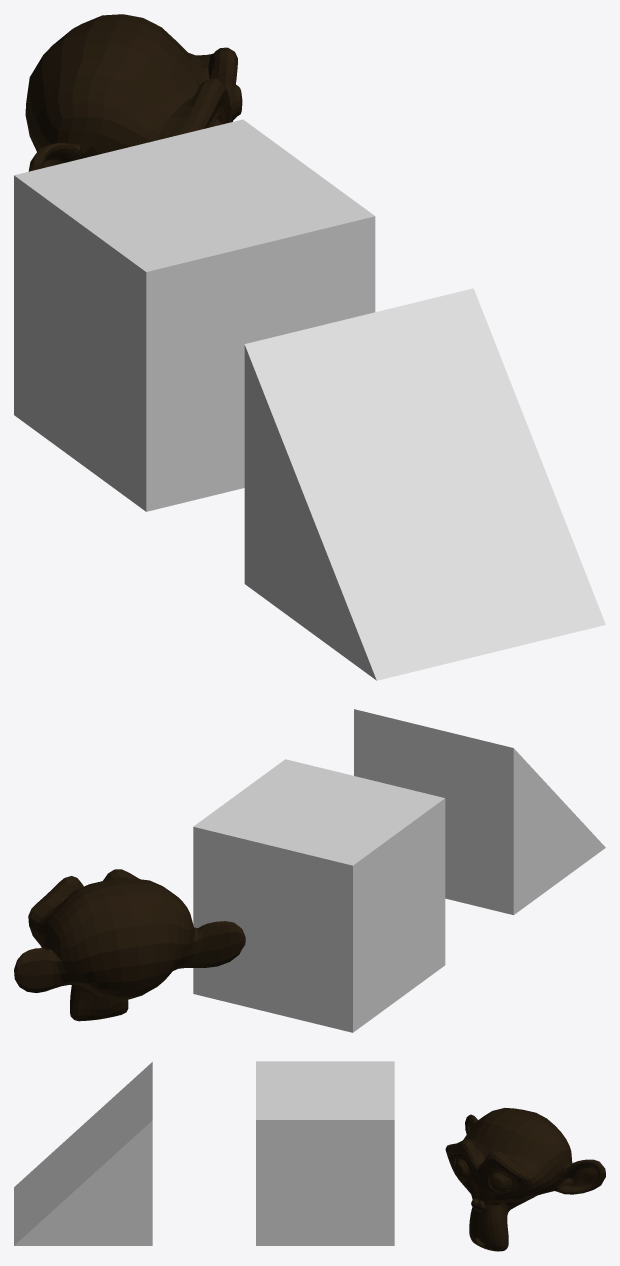
Rendered from test_map.gltf.
3 renders of one model, top to bottom at view 1: azimuth 30°, elevation 25°; view 2: azimuth 150°, elevation 25°; view 3: azimuth 270°, elevation 25°, orthographic. The views are drawn at different scales.
Visible parts, largest first — view 1: Ramp-col, Cube-col, Monkey; view 2: Cube-col, Ramp-col, Monkey; view 3: Cube-col, Ramp-col, Monkey.
Boxes of the visible parts, x1,y1,x2,y2 form: Ramp-col: (244,288,605,680); Cube-col: (14,119,375,511); Monkey: (25,14,242,171); Cube-col: (193,759,445,1032); Ramp-col: (354,709,605,915); Monkey: (14,869,245,1021); Cube-col: (256,1061,394,1245); Ramp-col: (14,1062,152,1245); Monkey: (445,1108,605,1251).
Size of what is drawn, in the model's own units: 2.95 by 2.05 by 8.53.
